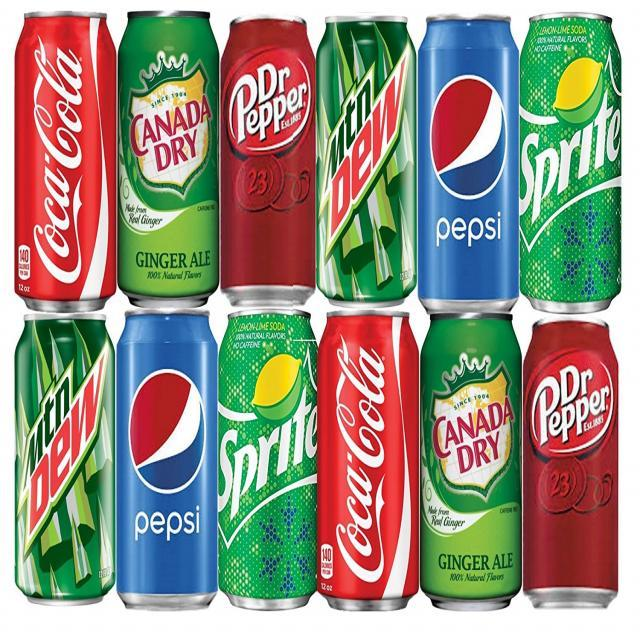Coke: (313, 309, 421, 621), (114, 306, 220, 616), (417, 12, 523, 316), (12, 9, 117, 314)
